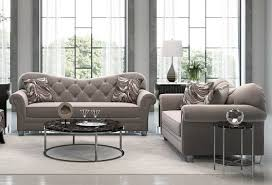Chair: (147, 72, 268, 160), (157, 31, 181, 84)
Sofa: (10, 69, 154, 137)
Table: (40, 113, 129, 161), (209, 120, 260, 174)
